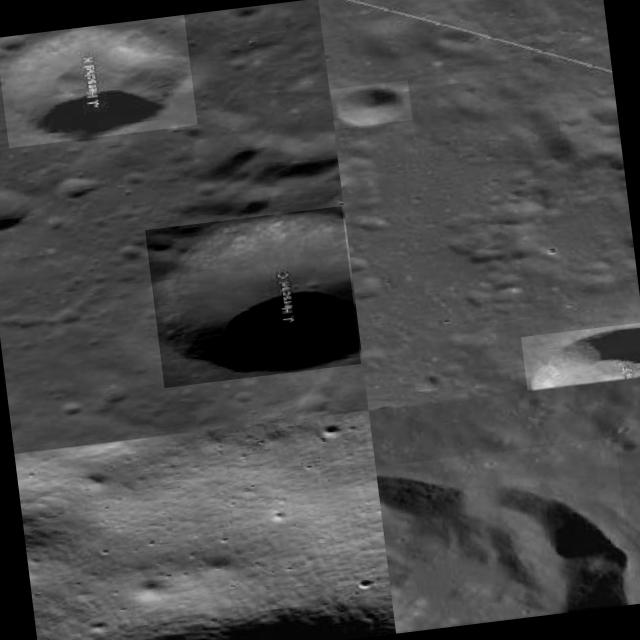crater: (375, 438, 635, 632), (144, 205, 360, 388), (0, 14, 197, 147), (520, 322, 640, 389), (330, 80, 412, 129)
